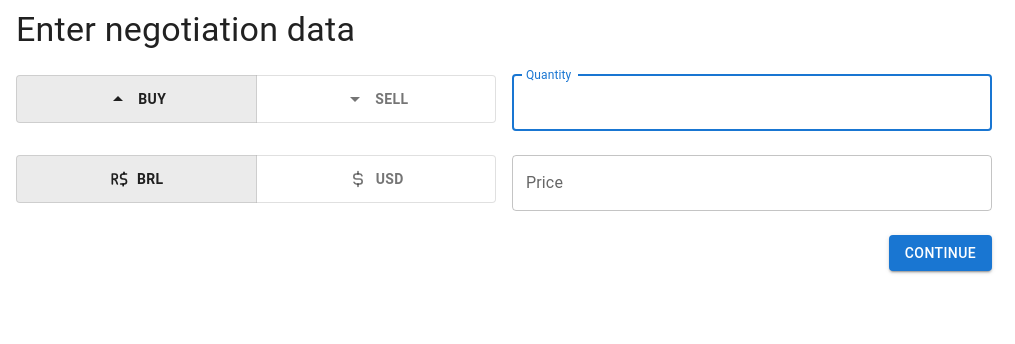
Test: NegotiationForm › should valide inputs
Type "-25.250" into the field labelled "Quantity" at (752, 103), box x1=512 y1=75 x2=992 y2=131
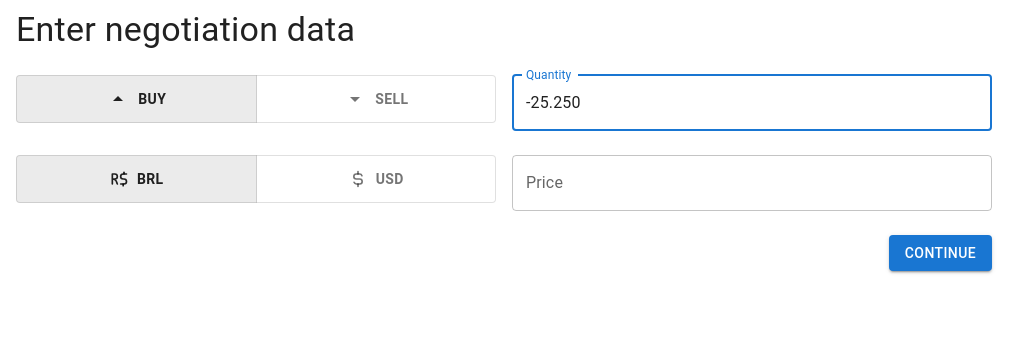
Type "-25.250" into the field labelled "Price" at (752, 183), box x1=512 y1=155 x2=992 y2=211
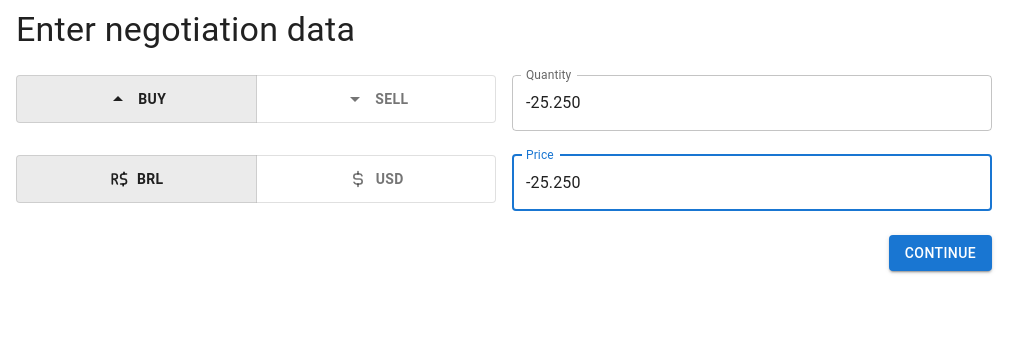
Click the button "Continue" at (940, 253), box x1=889 y1=235 x2=992 y2=272
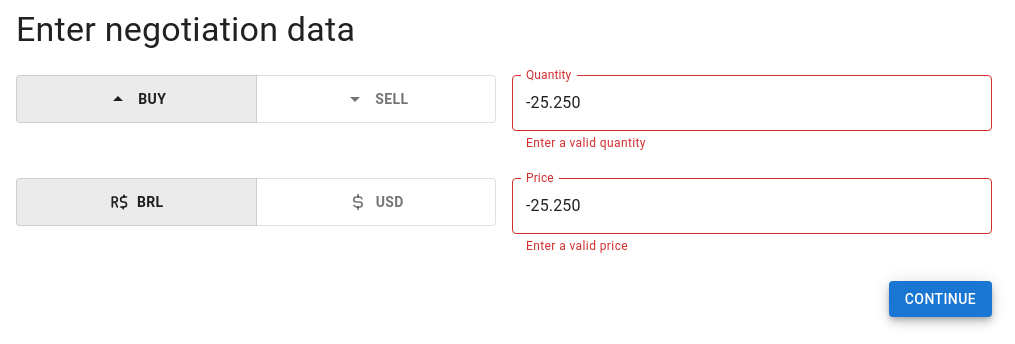
Check: the text "Enter a valid quantity" is shown, box x1=526 y1=136 x2=646 y2=150
Check: the text "Enter a valid price" is shown, box x1=526 y1=239 x2=628 y2=253
